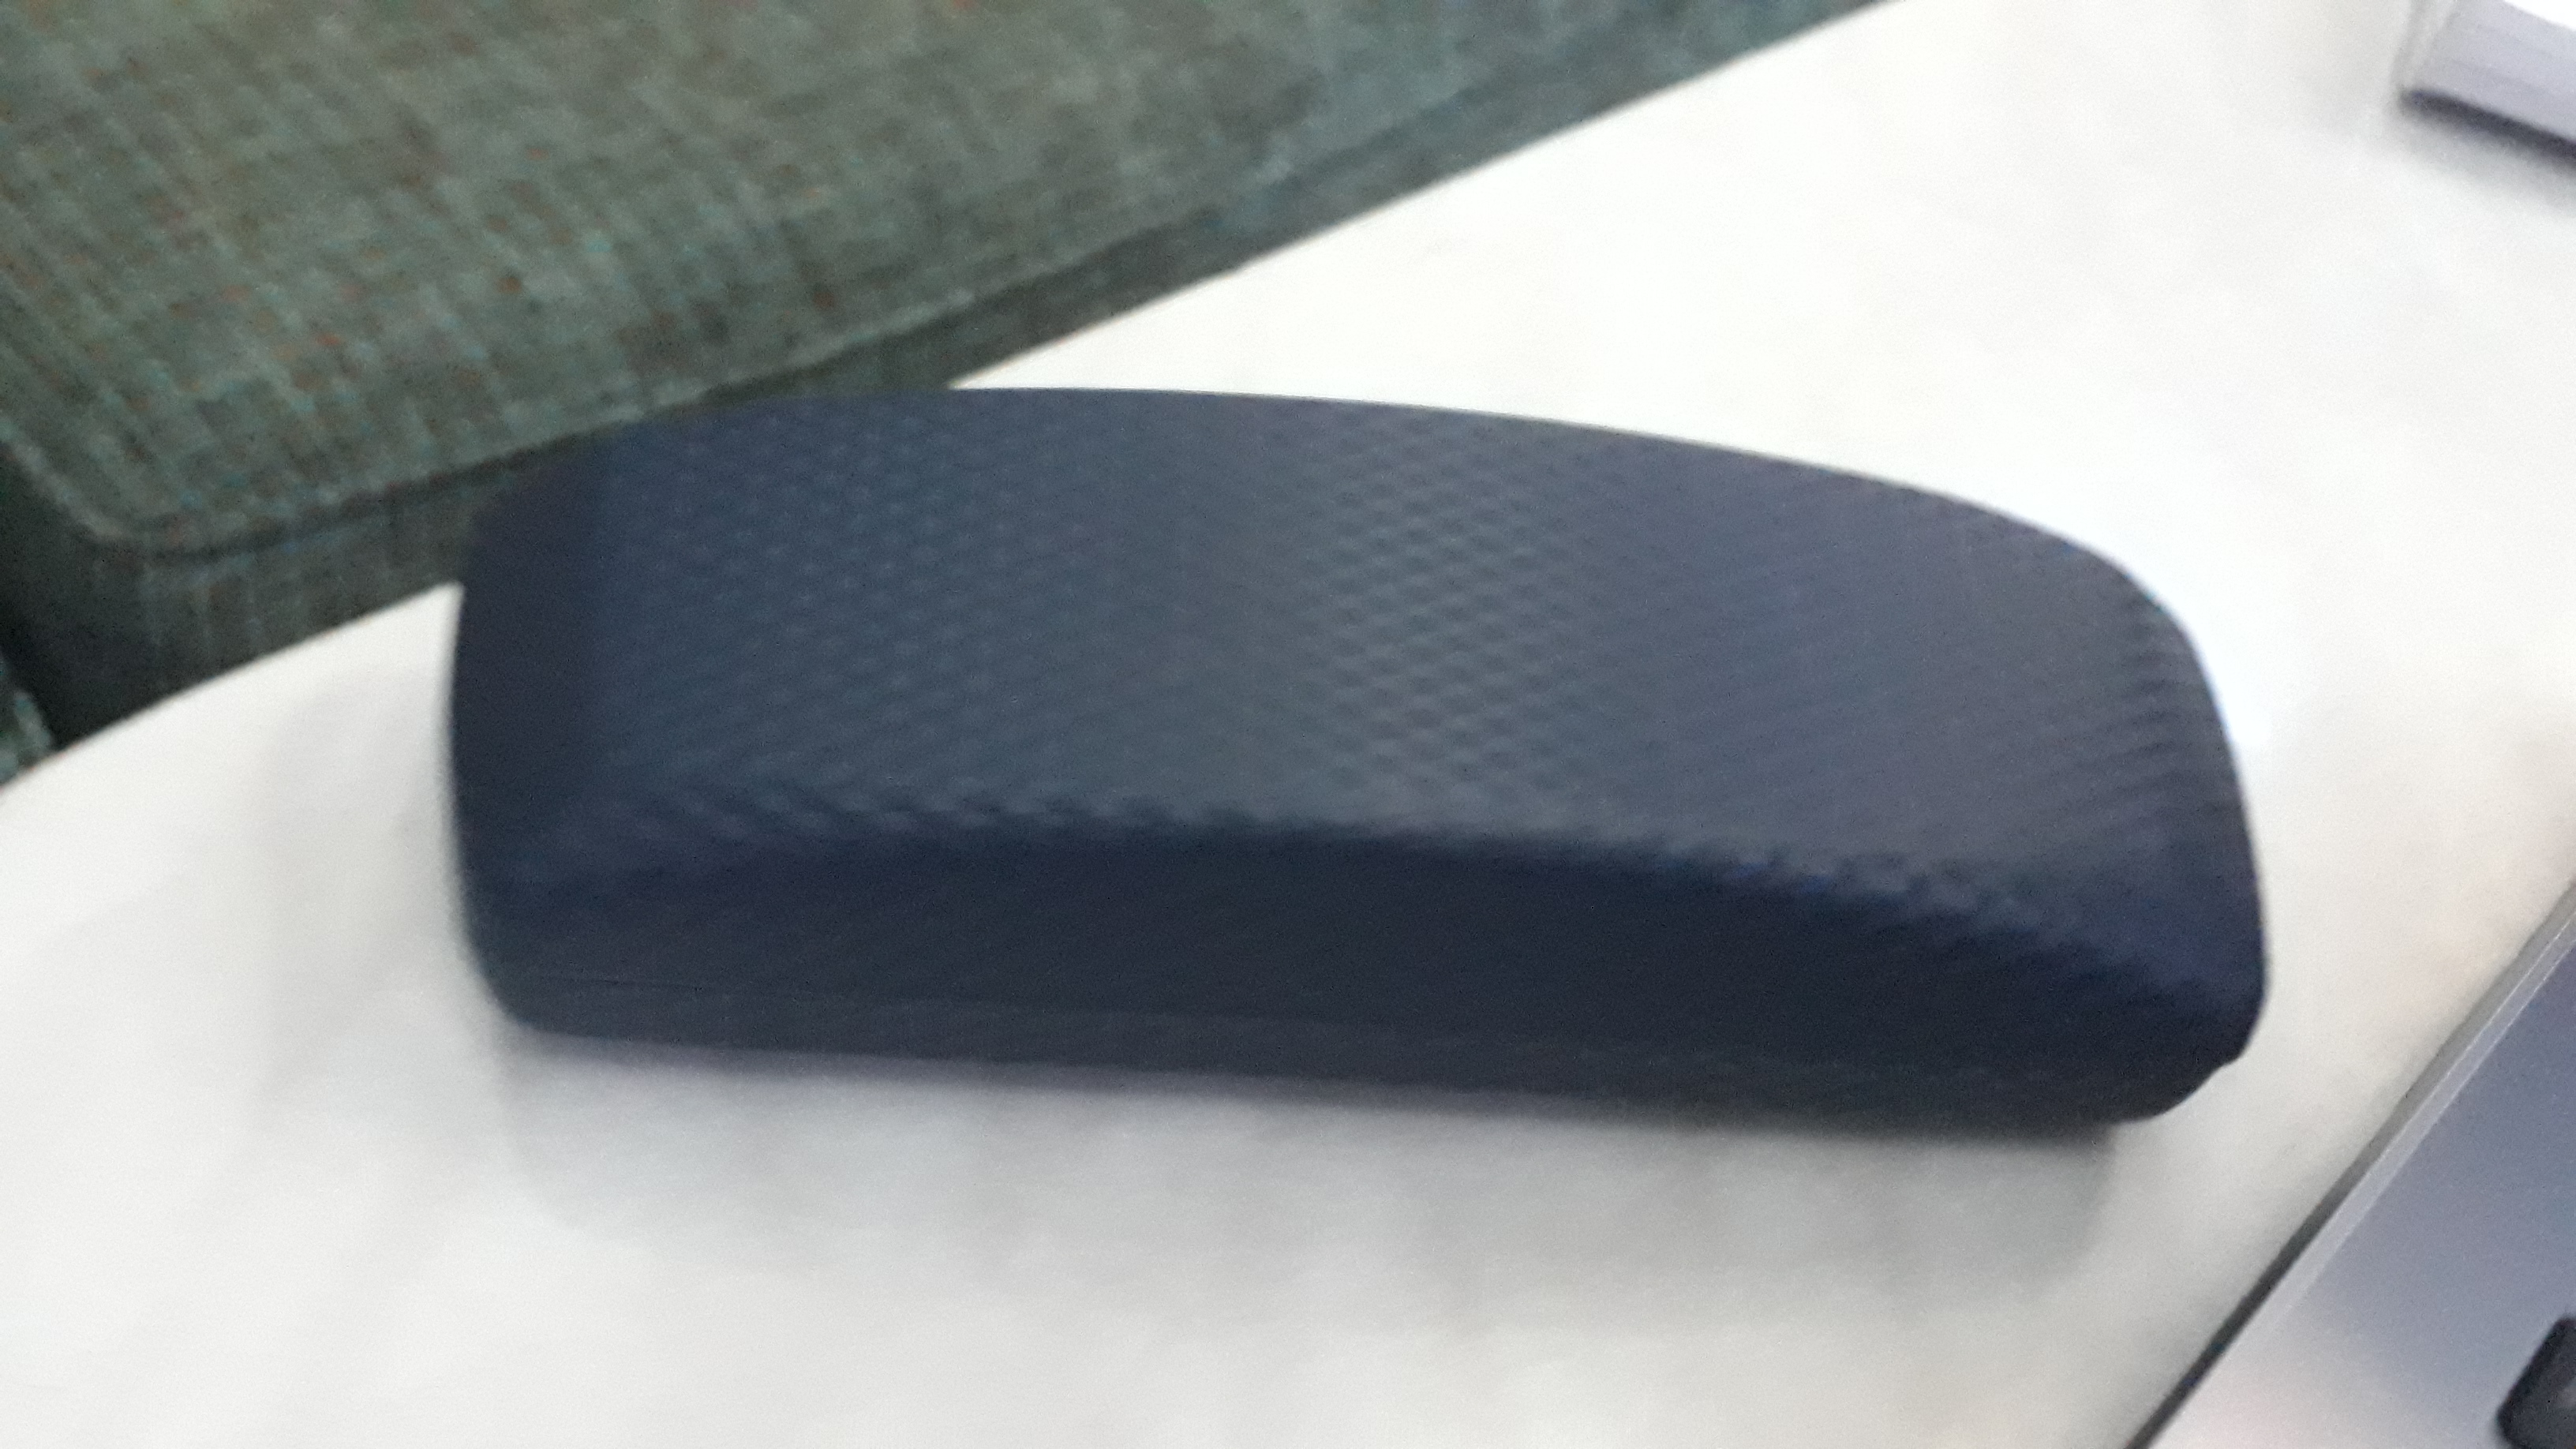nadar: (437, 370, 2293, 1141)
